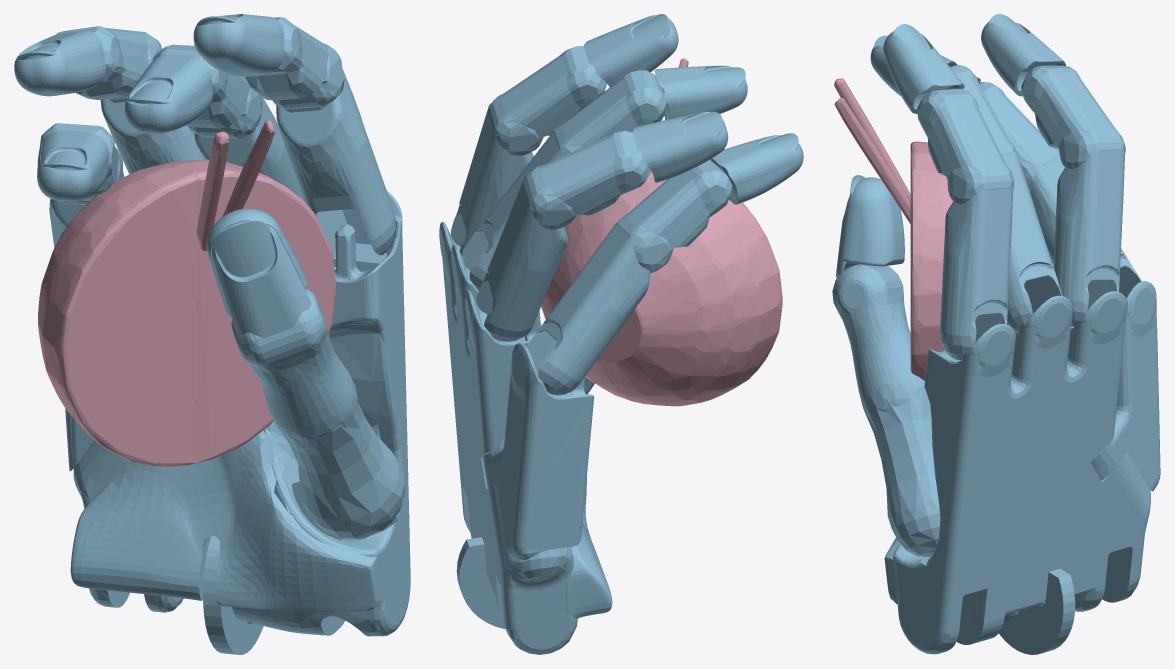
The picture shows the model from 3 angles, left to right: view 1: azimuth 30°, elevation 25°; view 2: azimuth 150°, elevation 25°; view 3: azimuth 270°, elevation 25°; orthographic projection. The views are drawn at different scales.
Parts seen in each view (by area): view 1: hand_isaac_q, world; view 2: hand_isaac_q, world; view 3: hand_isaac_q, world.
Boxes of the visible parts, x1,y1,x2,y2 form: hand_isaac_q: [14, 14, 410, 654]; world: [38, 120, 335, 466]; hand_isaac_q: [439, 14, 803, 654]; world: [541, 58, 782, 406]; hand_isaac_q: [832, 14, 1160, 654]; world: [834, 78, 1024, 380].
Size of the model in its own units: 0.1134 by 0.1936 by 0.0985.
